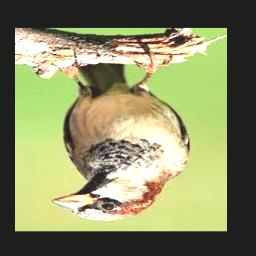Sparrow: (51, 48, 190, 220)
